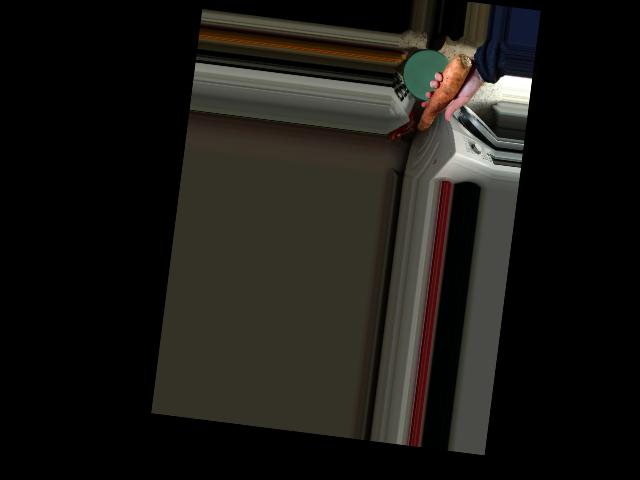sweet_potato: (412, 48, 475, 142)
